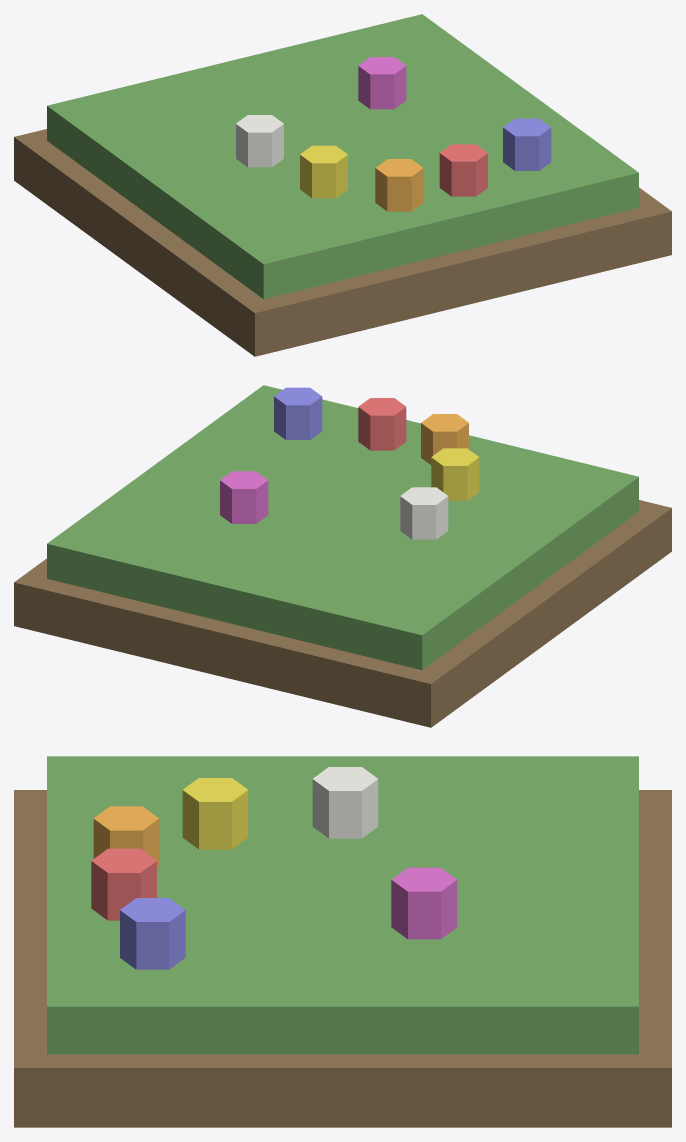
File: bed_mixed.glb
3 views of the same model, one above another, from view 1: azimuth 30°, elevation 25°; view 2: azimuth 150°, elevation 25°; view 3: azimuth 270°, elevation 25° (orthographic). The views are drawn at different scales.
Parts seen in each view (by area): view 1: BedMixed; view 2: BedMixed; view 3: BedMixed.
Part boxes in pixels (x1,y1,x2,y2): BedMixed: (14,14,671,356); BedMixed: (14,385,671,727); BedMixed: (14,756,671,1127).
Bounding box in the file's own units: 1 × 0.26 × 1.
